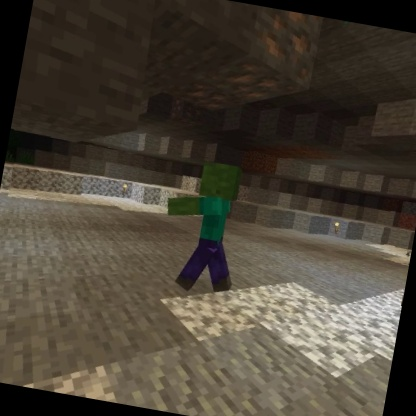zombie: (149, 152, 256, 302)
